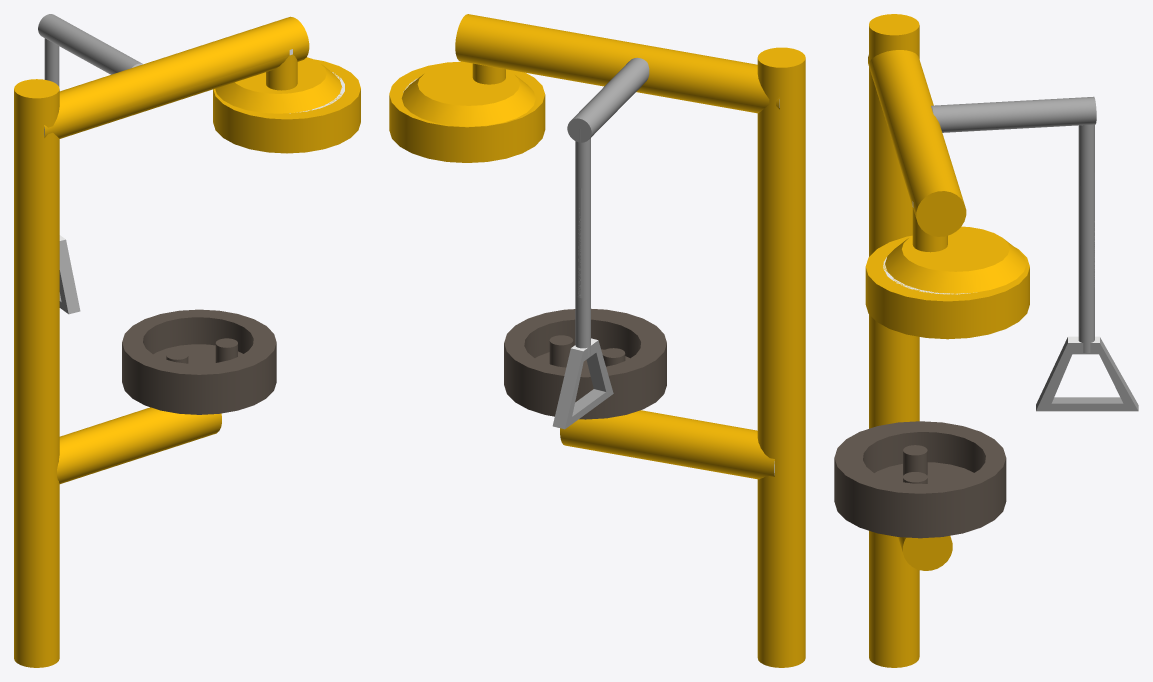
The model's file is shower.dae.
3 views of the same model, side by side, from view 1: azimuth 30°, elevation 25°; view 2: azimuth 150°, elevation 25°; view 3: azimuth 270°, elevation 25° (orthographic). The views are drawn at different scales.
Visible parts, largest first — view 1: SketchUp (×11); view 2: SketchUp (×12); view 3: SketchUp (×13).
Part boxes in pixels (x1,y1,x2,y2): SketchUp (×11): [14, 14, 360, 667]; SketchUp (×12): [389, 14, 805, 667]; SketchUp (×13): [834, 14, 1138, 667].
Size of the model in its own units: 70.21 by 46.47 by 107.
